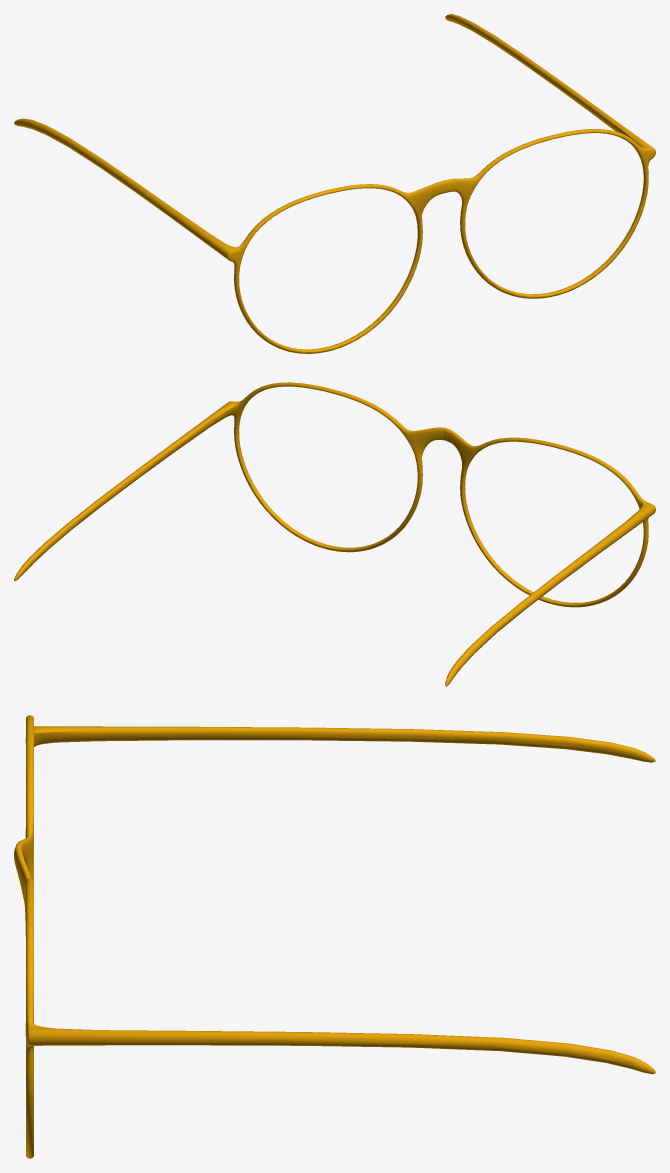
The model's file is eyewear-glasses-003-3f853512.glb.
The picture shows the model from 3 angles, top to bottom: view 1: azimuth 30°, elevation 25°; view 2: azimuth 150°, elevation 25°; view 3: azimuth 270°, elevation 25°; orthographic projection. The views are drawn at different scales.
Visible parts, largest first — view 1: Geo_Male_White_Glasses.004; view 2: Geo_Male_White_Glasses.004; view 3: Geo_Male_White_Glasses.004.
Part boxes in pixels (<box>): Geo_Male_White_Glasses.004: <box>14,14,655,353</box>; Geo_Male_White_Glasses.004: <box>14,382,655,686</box>; Geo_Male_White_Glasses.004: <box>14,715,655,1158</box>.
Size of the model in its own units: 1.5 by 0.532 by 1.3.
